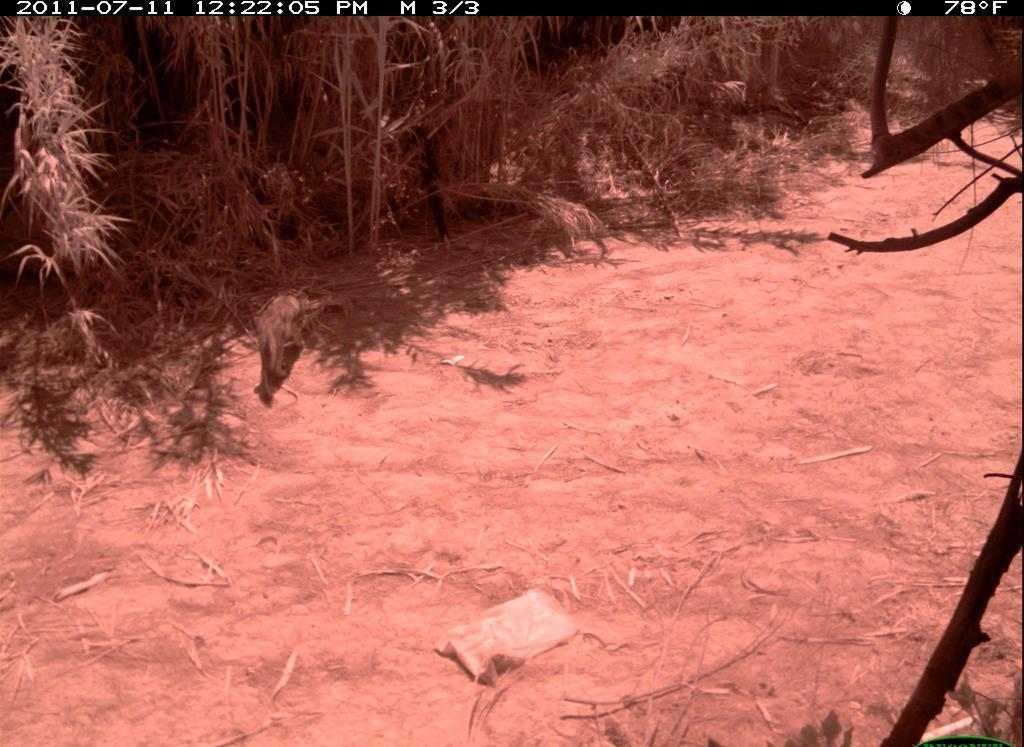coyote: (250, 281, 326, 405)
